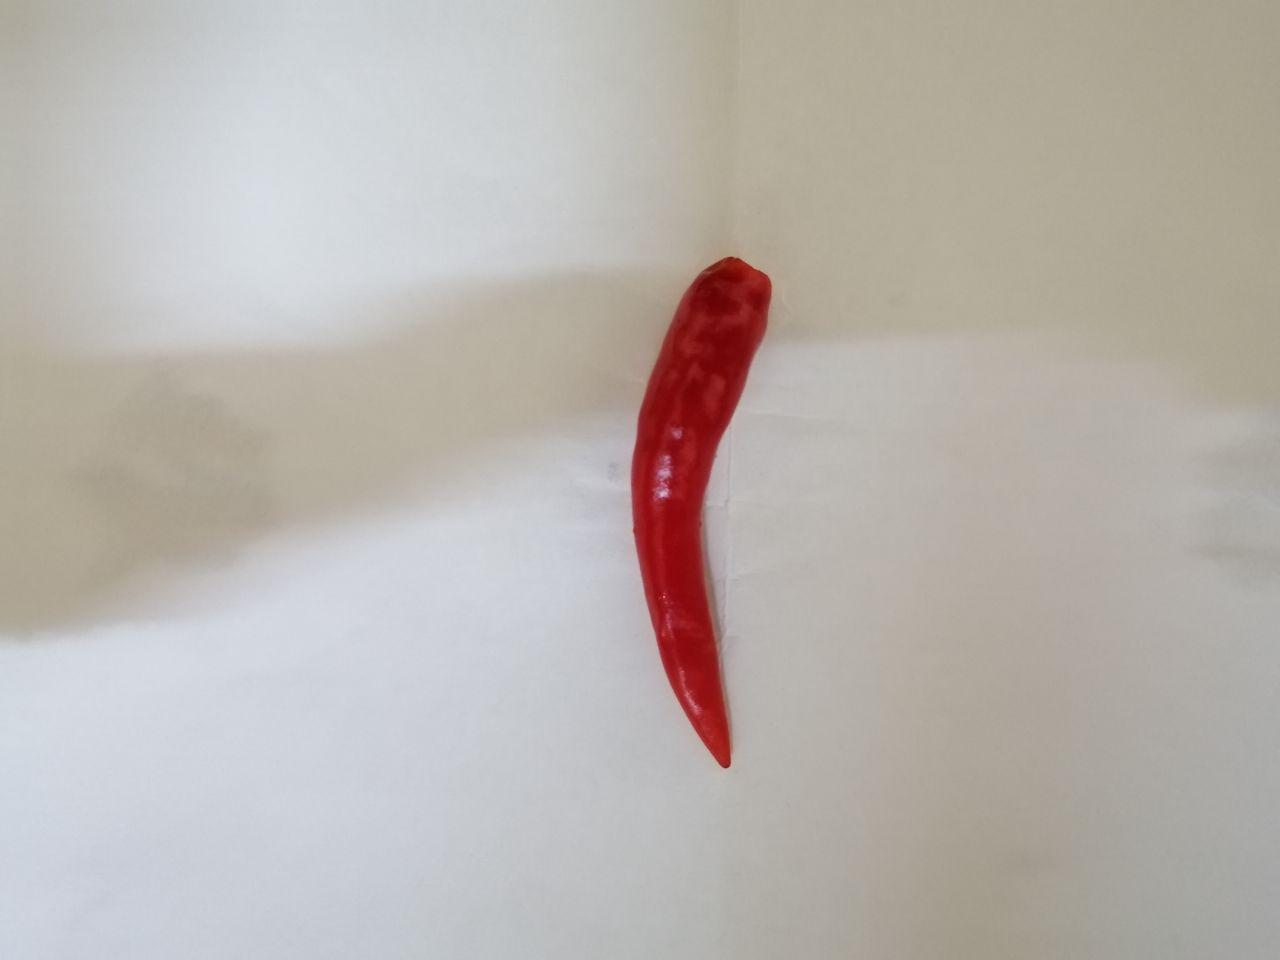lada merah: (596, 242, 790, 781)
